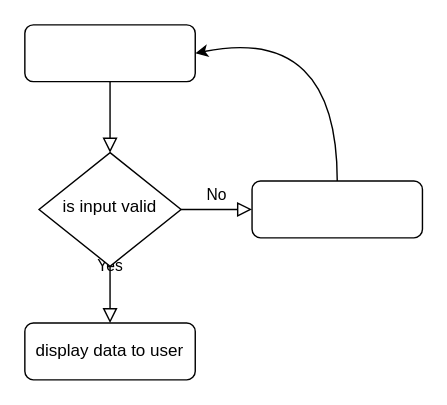
Image size: 447x405. Some labels were removed from this diagram. Here are the shapes that lost their labels. From the top down, the box of each, then its label:
(23, 23, 195, 82): Request input from user
(251, 180, 422, 238): clear input buffer
